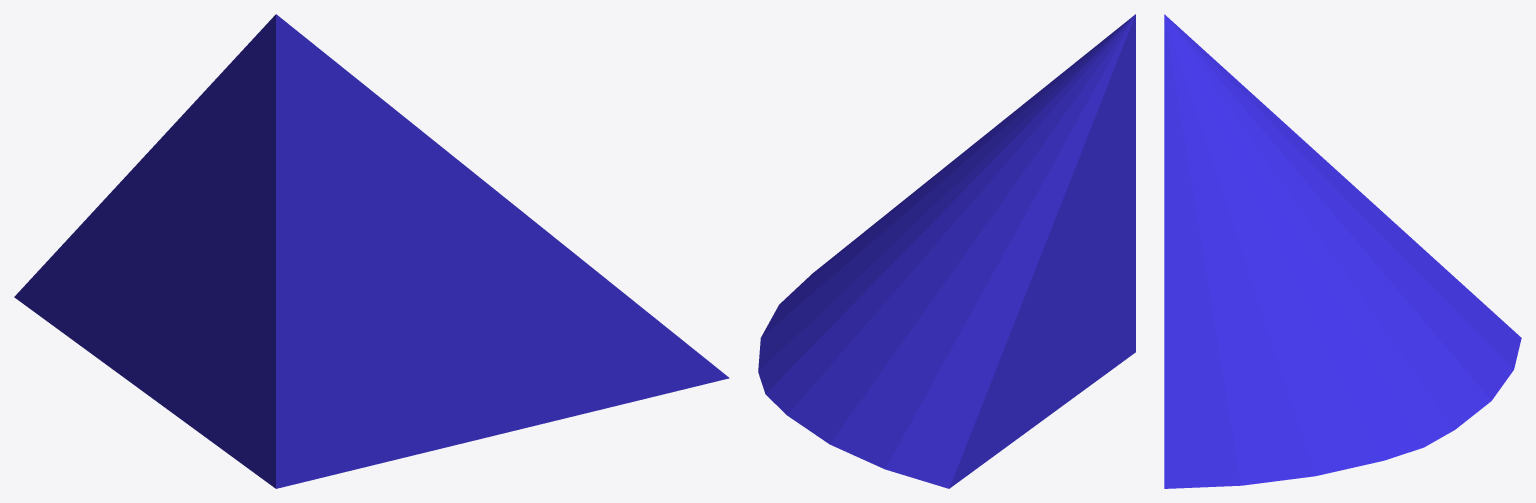
File: roof_out2.fbx
3 views of the same model, side by side, from view 1: azimuth 30°, elevation 25°; view 2: azimuth 150°, elevation 25°; view 3: azimuth 270°, elevation 25° (orthographic). The views are drawn at different scales.
Visible parts, largest first — view 1: roof_out2; view 2: roof_out2; view 3: roof_out2.
Part boxes in pixels (x1,y1,x2,y2): roof_out2: [14, 14, 729, 488]; roof_out2: [758, 14, 1135, 488]; roof_out2: [1164, 14, 1521, 488].
Bounding box in the file's own units: 200 × 200 × 200.
